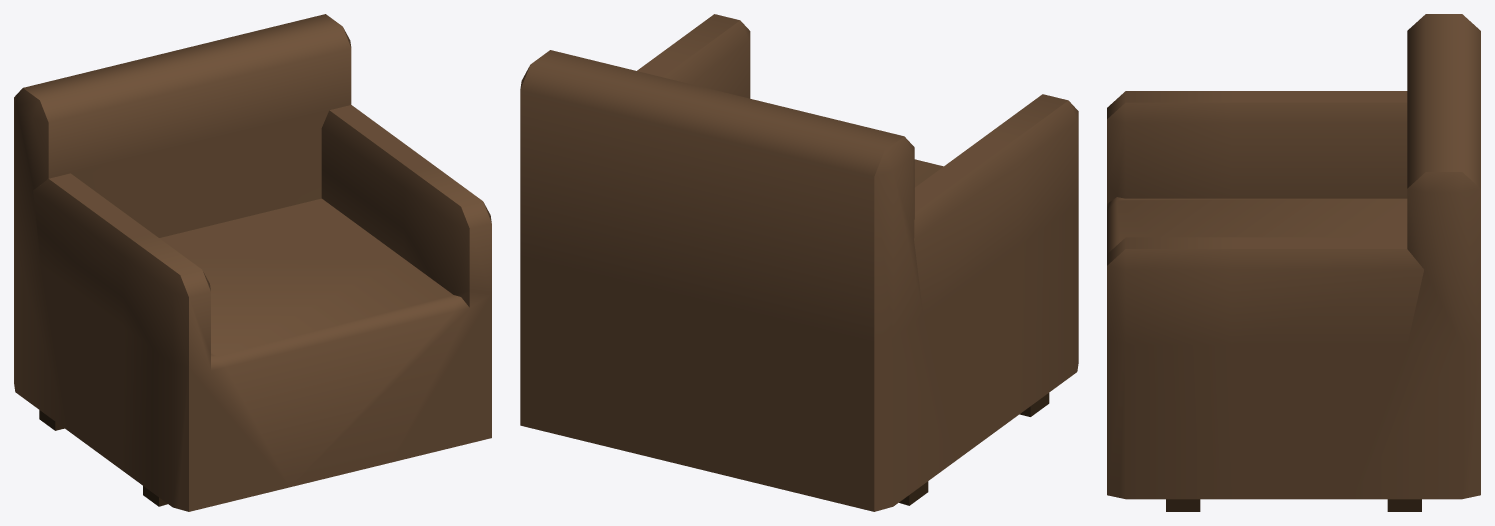
File: easychair.glb
3 renders of one model, left to right at view 1: azimuth 30°, elevation 25°; view 2: azimuth 150°, elevation 25°; view 3: azimuth 270°, elevation 25°, orthographic. The views are drawn at different scales.
Visible parts, largest first — view 1: Cube; view 2: Cube; view 3: Cube.
Part boxes in pixels (box(x1,y1,x2,y2)): Cube: box(14, 14, 491, 511); Cube: box(520, 14, 1078, 511); Cube: box(1107, 14, 1480, 511).
Size of the model in its own units: 2.31 by 2.2 by 2.2.
